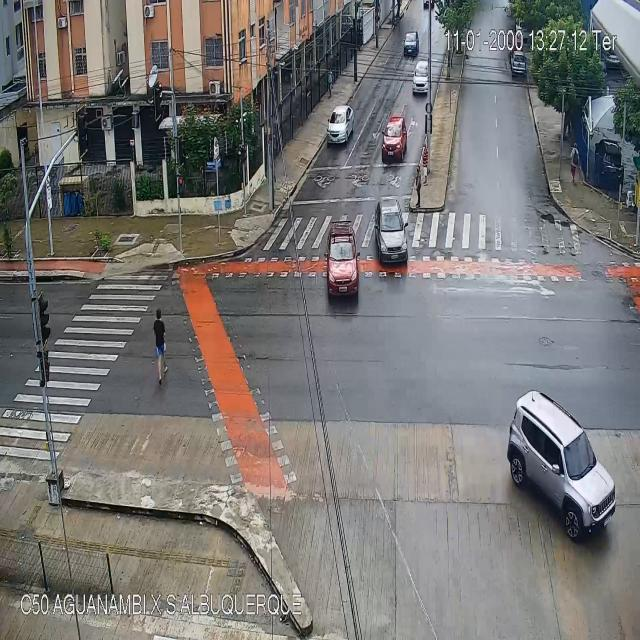Car: (507, 388, 615, 542), (324, 222, 360, 296), (373, 198, 408, 264), (381, 114, 407, 162), (326, 104, 353, 142), (412, 62, 430, 97), (511, 49, 526, 75), (403, 30, 417, 54)
